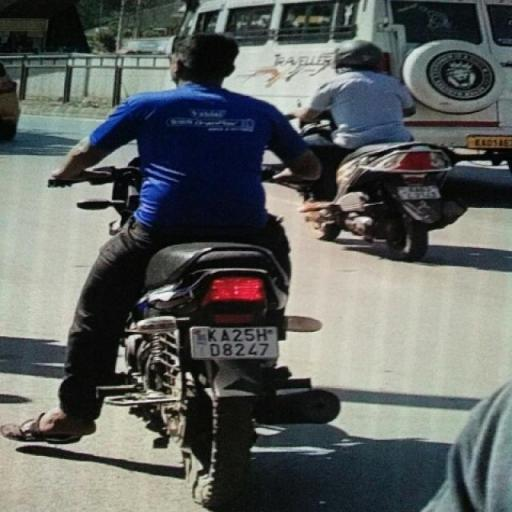bike: (43, 28, 337, 511)
numberplate: (190, 326, 280, 360)
withouthelmet: (173, 36, 236, 84)
